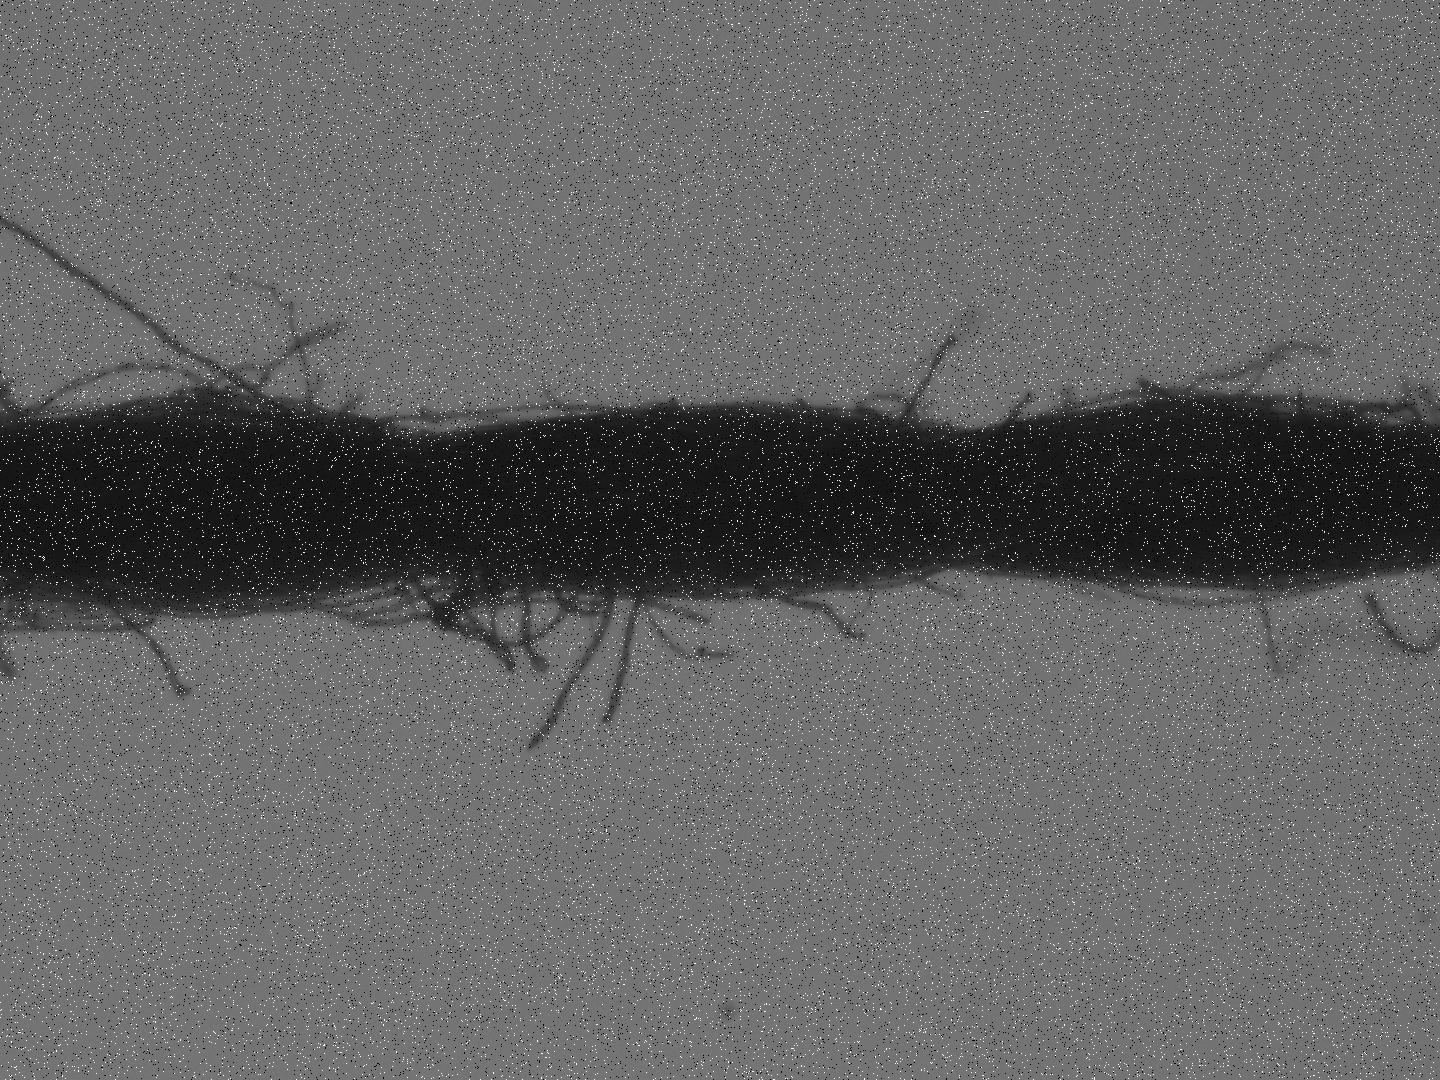loop_fiber: (23, 358, 227, 419), (282, 569, 489, 628), (410, 575, 581, 643), (1095, 573, 1337, 613), (367, 397, 625, 433), (1037, 382, 1219, 417), (549, 580, 613, 616), (1335, 397, 1420, 424), (859, 390, 922, 425)
protruding_fiber: (520, 588, 620, 754), (99, 598, 195, 707), (595, 589, 650, 732), (896, 330, 958, 430)
